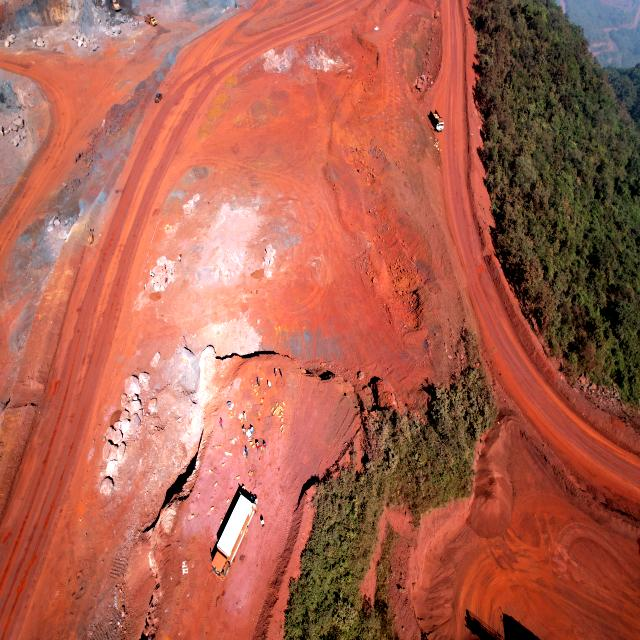Dumper truck: (429, 111, 445, 133), (145, 14, 156, 26)
Excavator: (111, 0, 122, 12)
car: (155, 92, 163, 104)
person: (218, 419, 223, 428), (256, 442, 260, 452), (261, 518, 265, 528), (274, 368, 278, 376), (264, 442, 267, 452), (165, 276, 168, 284), (258, 376, 260, 387), (178, 256, 180, 264)
